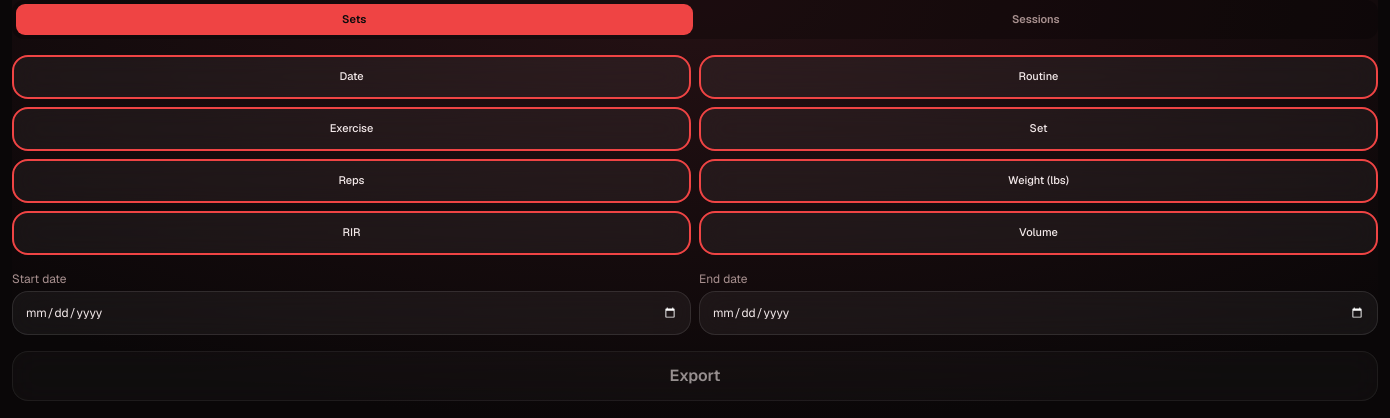
Test case: ExportPanel › swaps the column list when the dataset changes
This screenshot has width=1390, height=418.
Check: the button "Exercise" is shown, box x1=12 y1=106 x2=691 y2=150
Click the tab "Sessions".
click(1036, 19)  # box x1=698 y1=4 x2=1374 y2=34
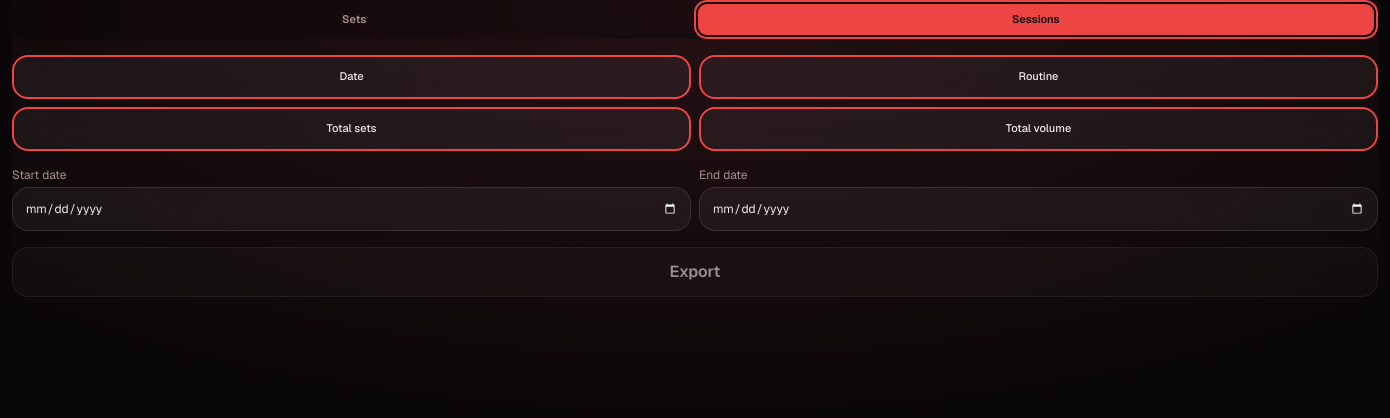
Check: the button "Exercise" is gone
Check: the button "Total sets" is shown, box x1=12 y1=106 x2=691 y2=150
